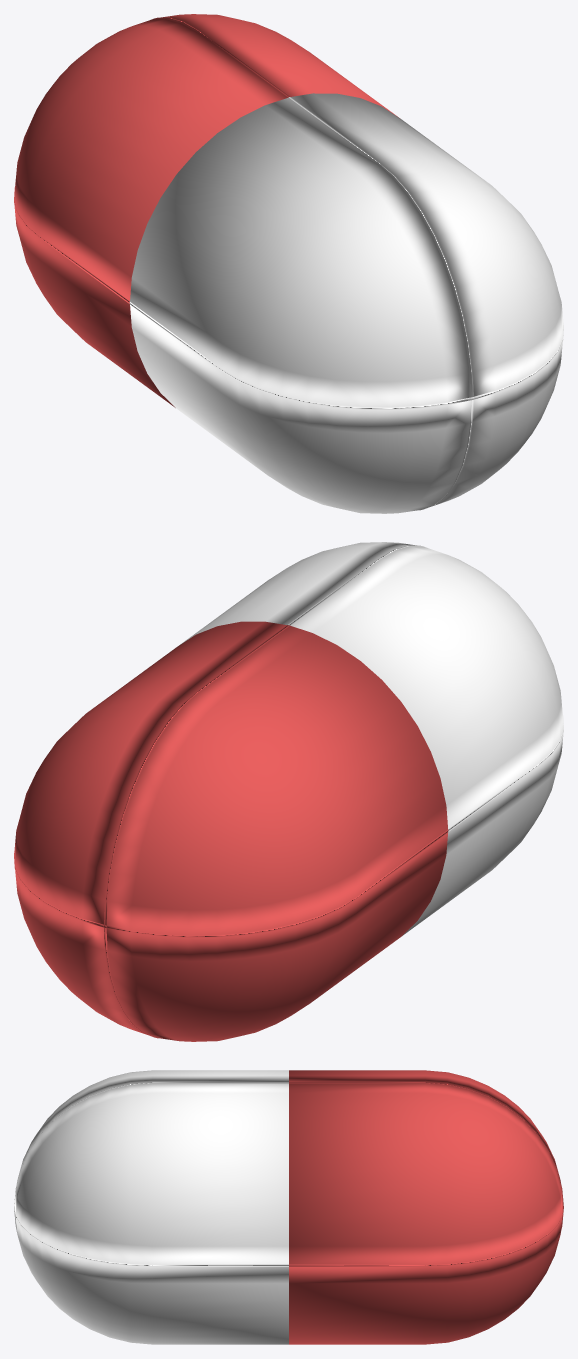
Rendered from pil obat fiks.glb.
3 renders of one model, top to bottom at view 1: azimuth 30°, elevation 25°; view 2: azimuth 150°, elevation 25°; view 3: azimuth 270°, elevation 25°, orthographic. The views are drawn at different scales.
Parts seen in each view (by area): view 1: Cube; view 2: Cube; view 3: Cube.
Part boxes in pixels (left/top/right/bottom): Cube: left=14, top=14, right=563, bottom=513; Cube: left=14, top=542, right=563, bottom=1041; Cube: left=14, top=1070, right=563, bottom=1344.
Size of the model in its own units: 0.1718 by 0.1718 by 0.3435.
